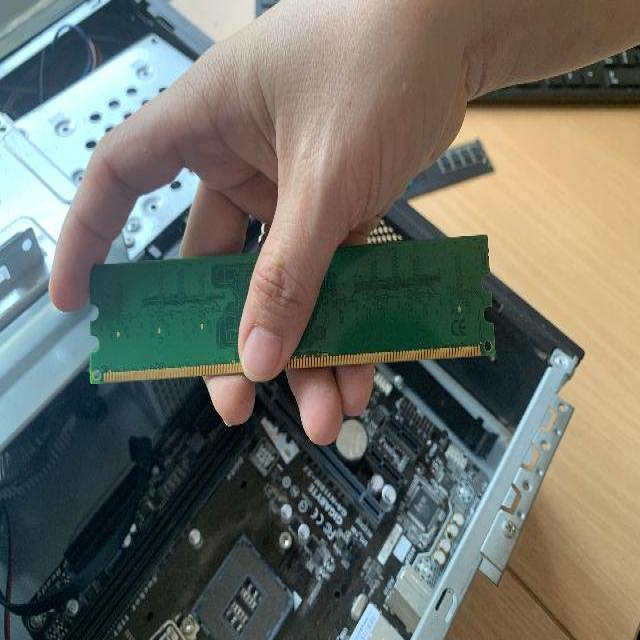RAM: (90, 234, 498, 382)
